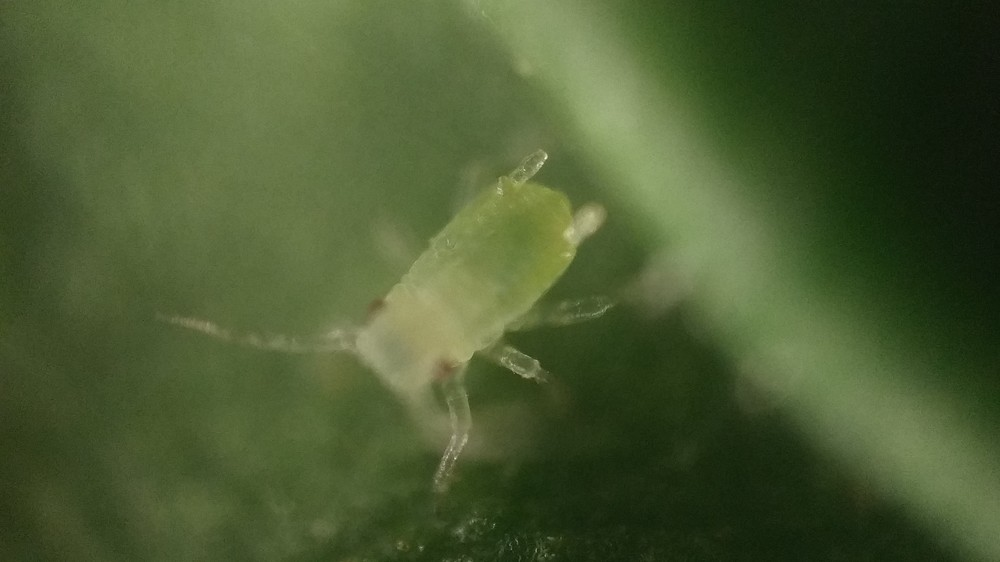Pulgon: (226, 150, 702, 496)
